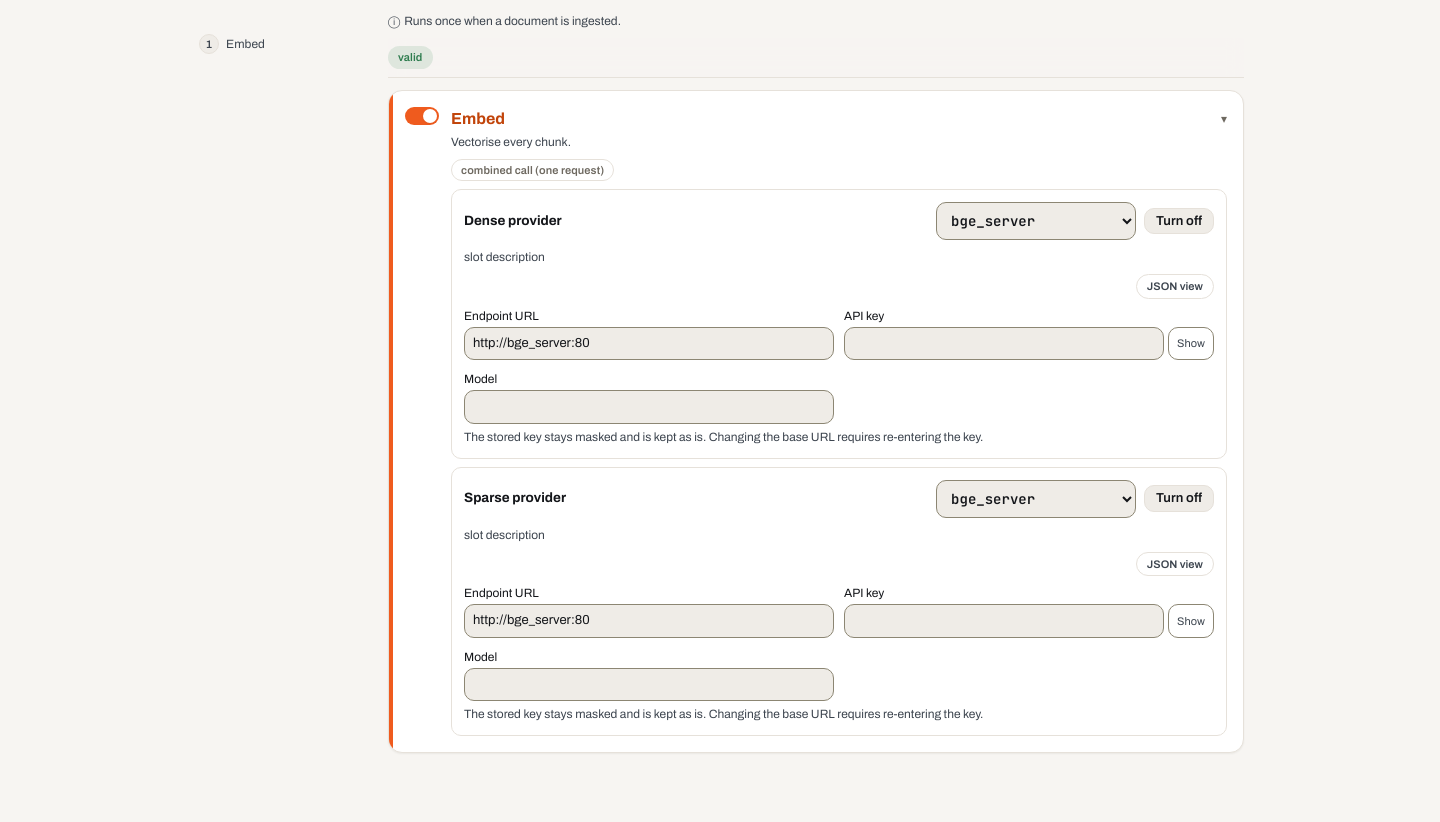
embed slots in the stage rail › sends kind null on Turn off and renders the server notice
Expected: the dropdown named "Dense provider provider" is shown, [936,202,1136,240]
Click the button "Turn off" in the row of "Sparse provider" at [1179, 498], box [1144,485,1214,512]
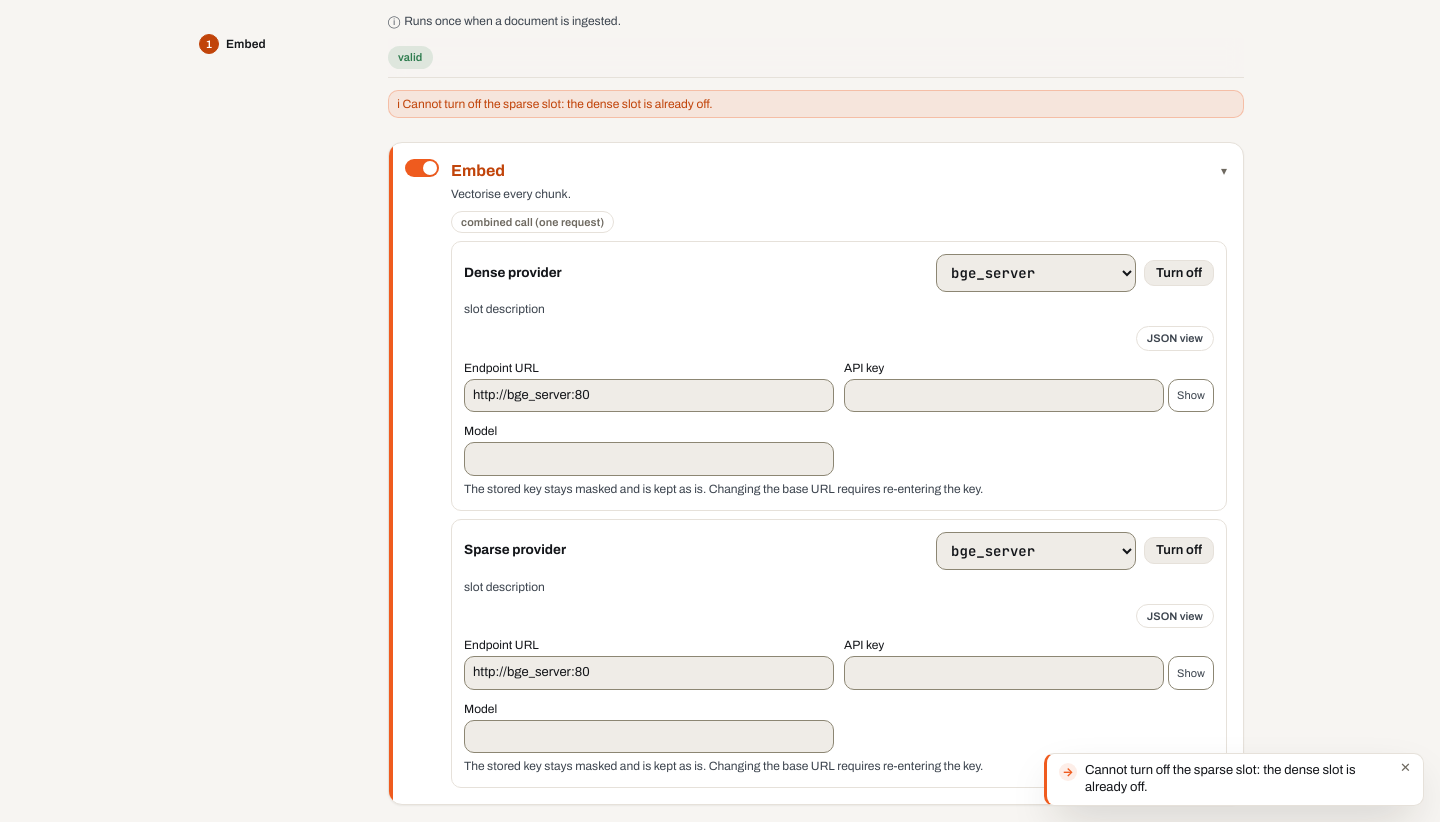
Result: the text "dense slot is already off" is shown at [403,96,713,110]
